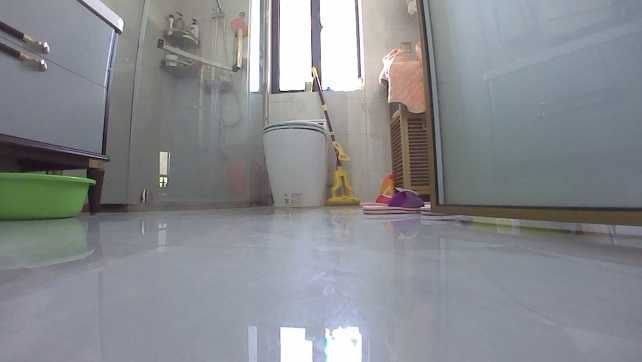toilet: (259, 112, 334, 209)
weight_scale: (356, 181, 430, 214)
